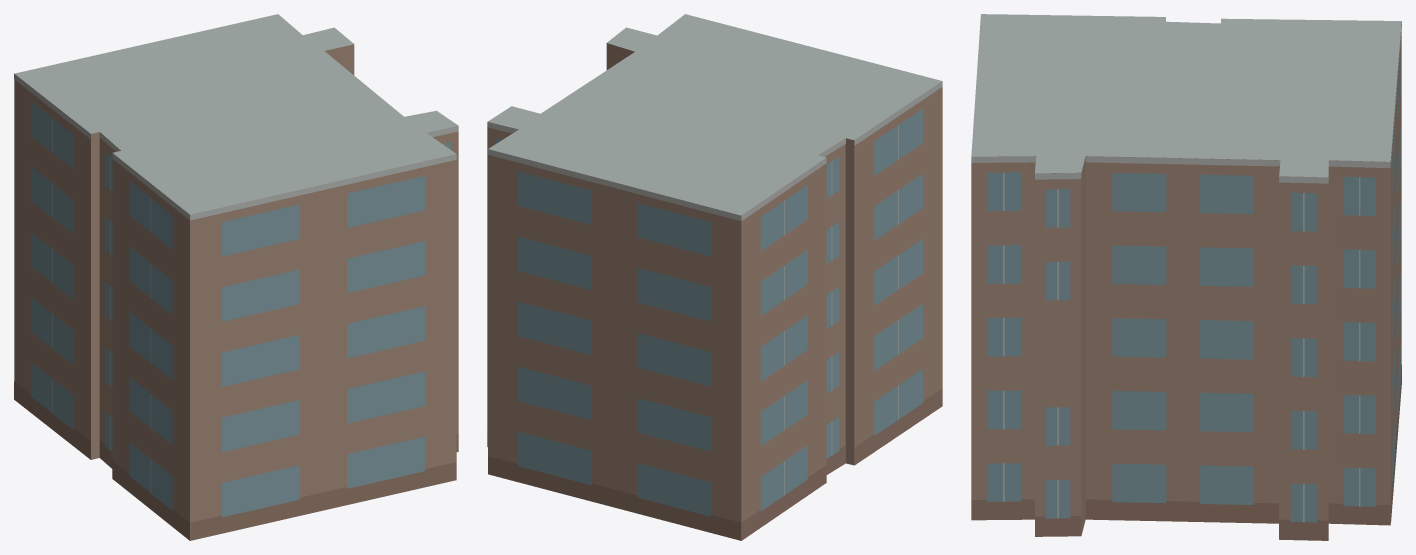
The model's file is survey-upis-32942932.glb.
3 views of the same model, side by side, from view 1: azimuth 30°, elevation 25°; view 2: azimuth 150°, elevation 25°; view 3: azimuth 270°, elevation 25° (orthographic). The views are drawn at different scales.
Visible parts, largest first — view 1: survey-upis-32942932.tmp; view 2: survey-upis-32942932.tmp; view 3: survey-upis-32942932.tmp.
Part boxes in pixels (x1,y1,x2,y2): survey-upis-32942932.tmp: (14,14,458,540); survey-upis-32942932.tmp: (487,14,942,540); survey-upis-32942932.tmp: (971,14,1401,540).
Bounding box in the file's own units: 13.55 × 14.05 × 15.09.
